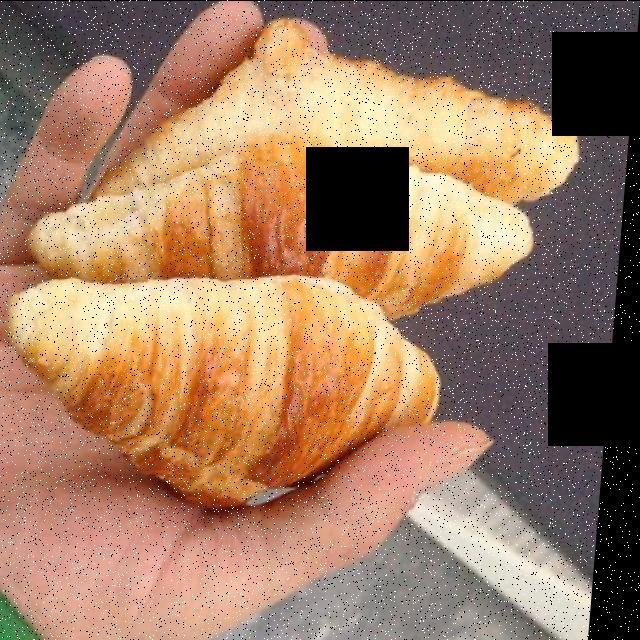croissant: (20, 41, 571, 492)
